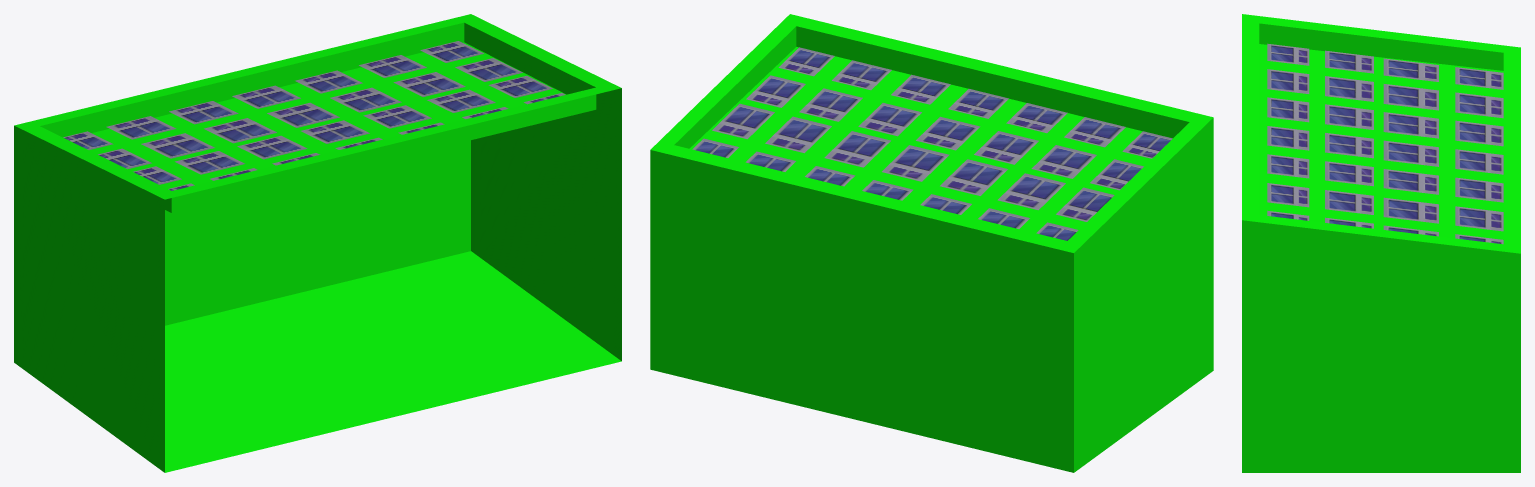
File: building_4s_02.FBX
3 views of the same model, side by side, from view 1: azimuth 30°, elevation 25°; view 2: azimuth 150°, elevation 25°; view 3: azimuth 270°, elevation 25° (orthographic). The views are drawn at different scales.
Parts seen in each view (by area): view 1: building_4s_02; view 2: building_4s_02; view 3: building_4s_02.
Part boxes in pixels (box(x1,y1,x2,y2)): building_4s_02: box(14, 14, 621, 472); building_4s_02: box(650, 14, 1213, 472); building_4s_02: box(1242, 14, 1520, 472).
Size of the model in its own units: 28 by 16 by 16.
